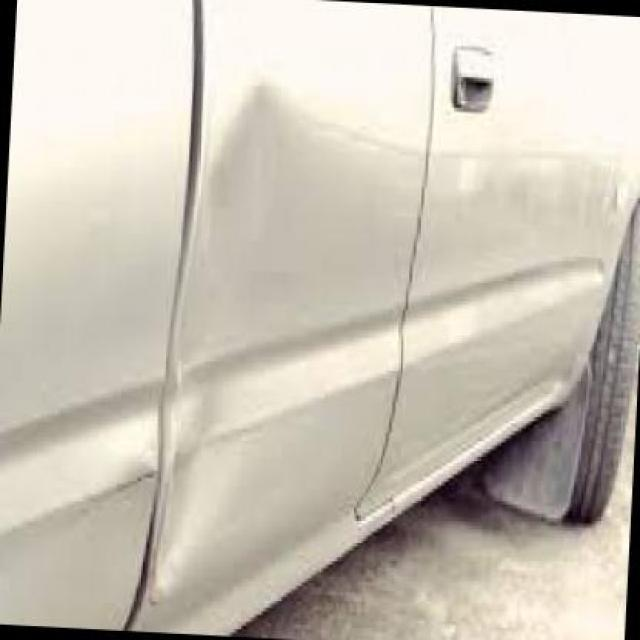dent: (178, 83, 315, 372), (0, 386, 157, 532), (158, 405, 225, 574)
